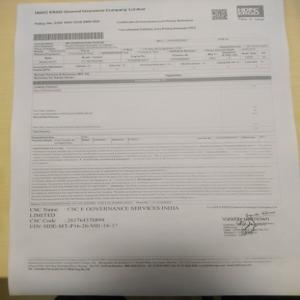image: (236, 1, 270, 22)
table: (33, 77, 275, 142), (34, 37, 272, 70)
text: (31, 145, 273, 205), (27, 205, 181, 228), (32, 6, 148, 13)
